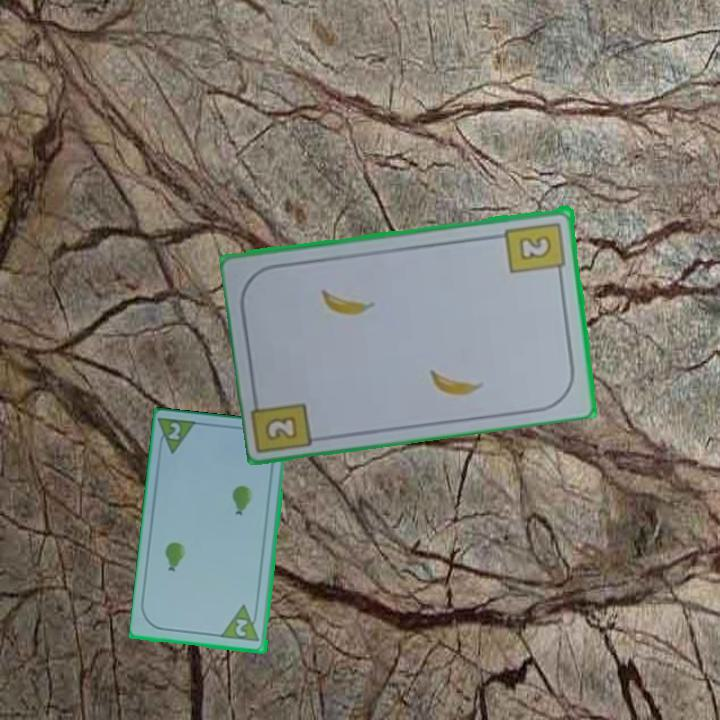2b: (502, 218, 569, 279), (261, 412, 301, 444)
2p: (155, 415, 201, 457), (219, 602, 263, 645)
